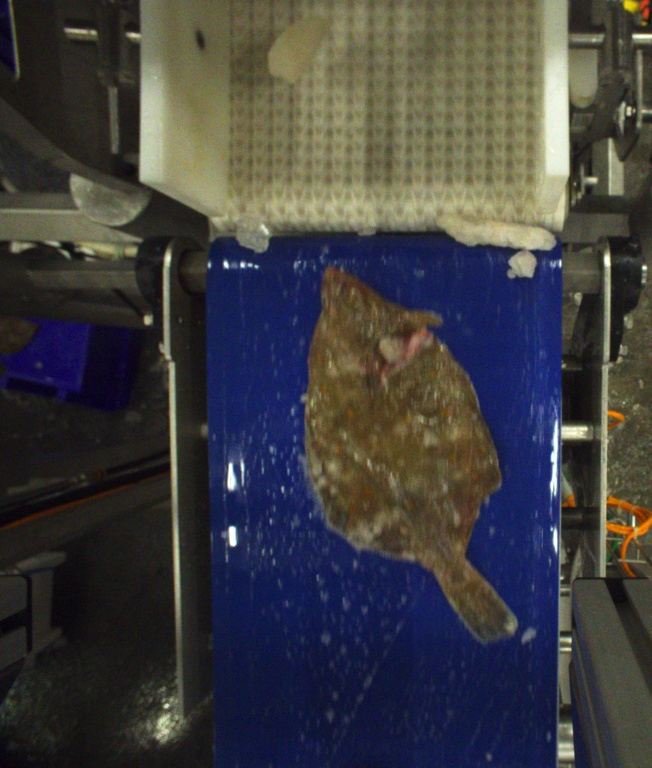PLE: (299, 266, 525, 647)
